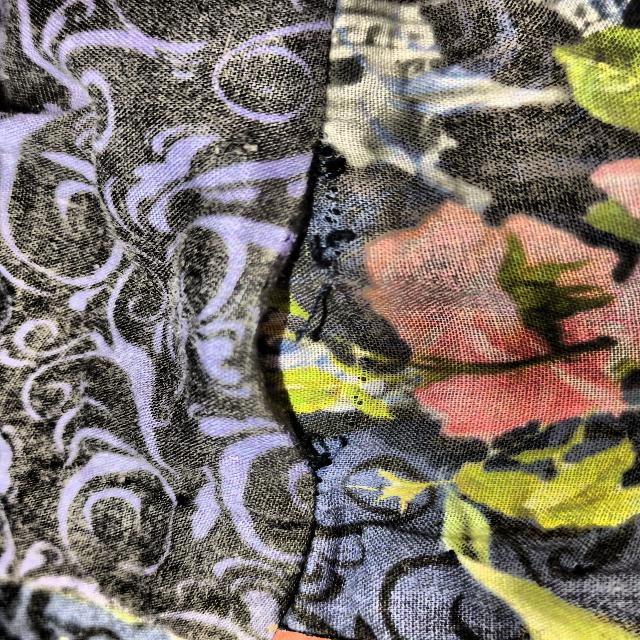seam: (229, 115, 419, 504)
